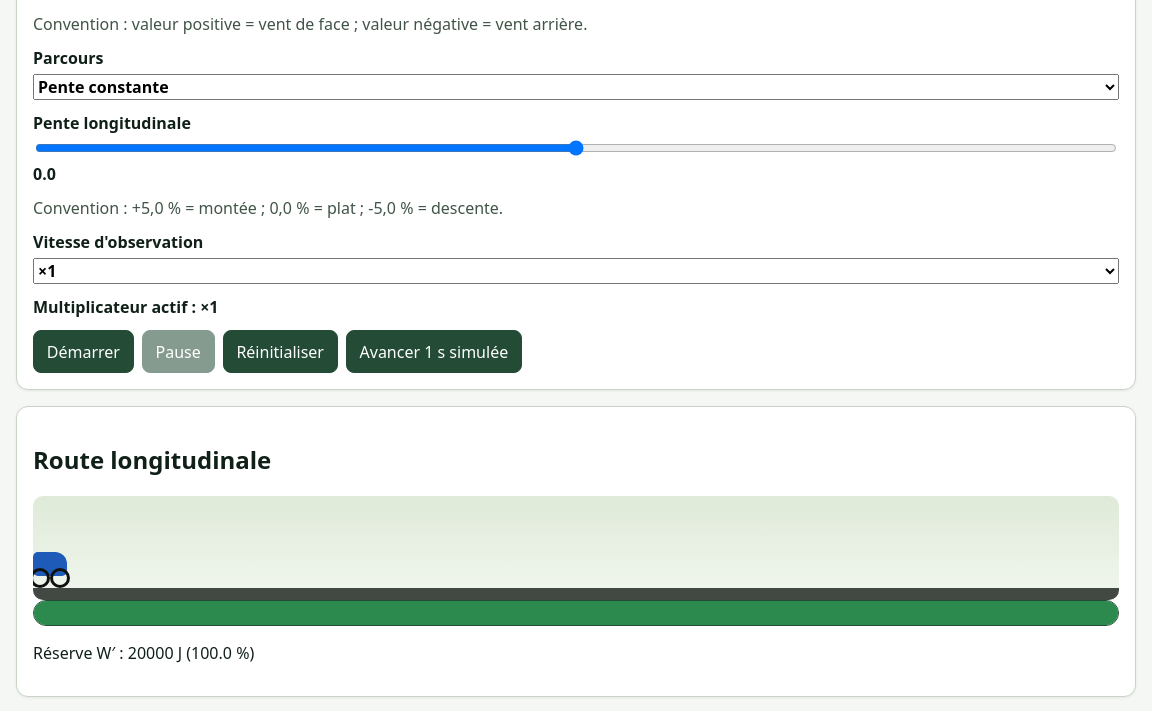
Test: App › shows controlled engine error
This screenshot has width=1152, height=711.
(page scrolled)
Click the button "Avancer 1 s simulée": (434, 352) [346, 330, 522, 373]
(page scrolled)
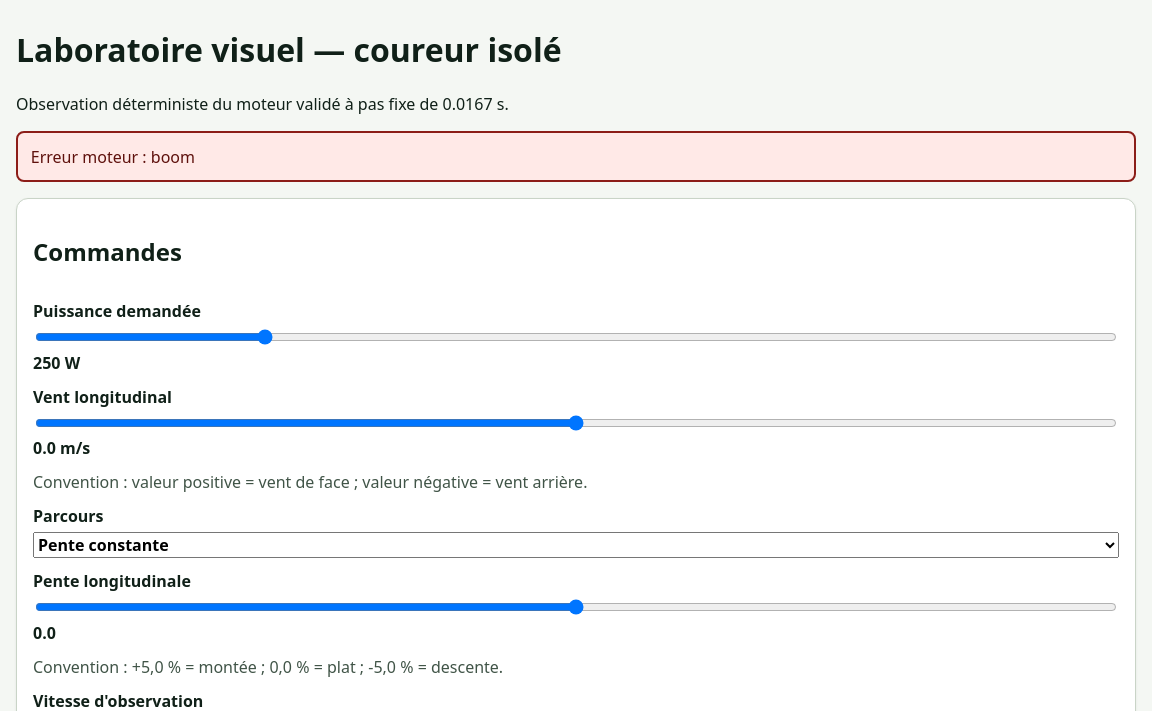
Now the message "Erreur moteur : boom" is shown, box [16, 131, 1136, 182]
